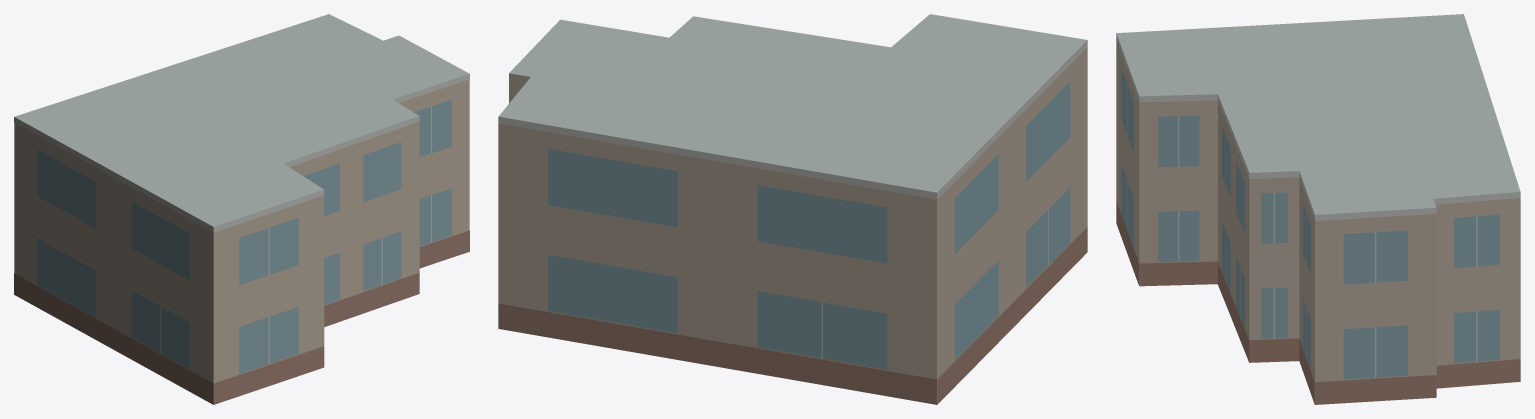
File: survey-upis-32598189.glb
3 views of the same model, side by side, from view 1: azimuth 30°, elevation 25°; view 2: azimuth 150°, elevation 25°; view 3: azimuth 270°, elevation 25° (orthographic). The views are drawn at different scales.
Parts seen in each view (by area): view 1: survey-upis-32598189.tmp; view 2: survey-upis-32598189.tmp; view 3: survey-upis-32598189.tmp.
Boxes of the visible parts, box(x1,y1,x2,y2) form: survey-upis-32598189.tmp: box(14, 14, 469, 404); survey-upis-32598189.tmp: box(498, 14, 1087, 404); survey-upis-32598189.tmp: box(1116, 14, 1520, 404).
Bounding box in the file's own units: 17.26 × 7.6 × 14.68.
